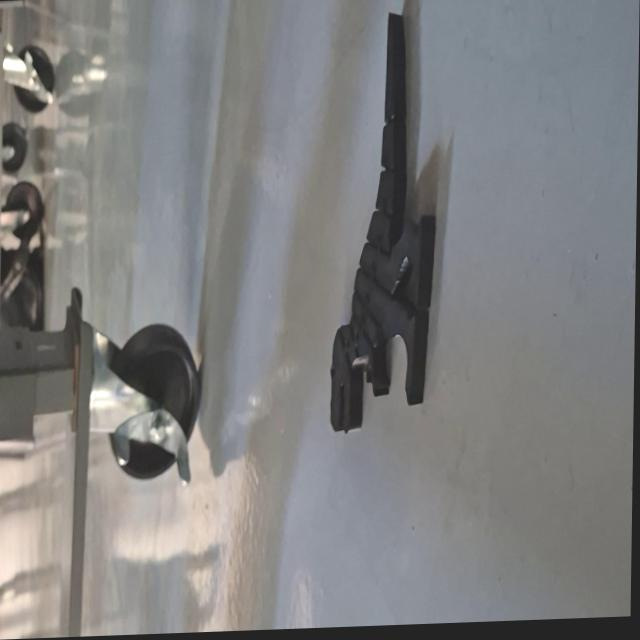dino: (328, 8, 440, 436)
